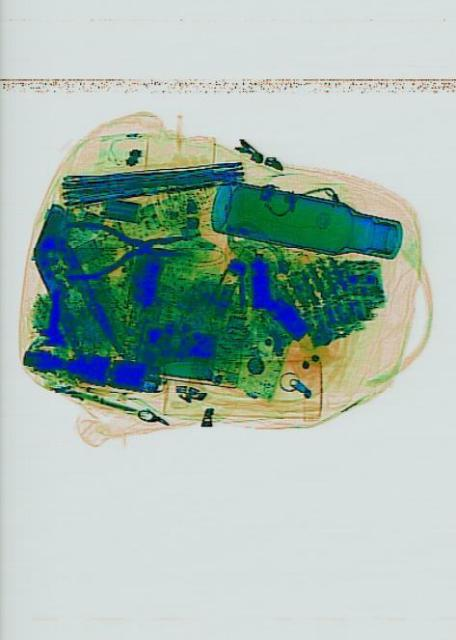Pliers: (25, 220, 124, 388), (62, 216, 187, 278)
